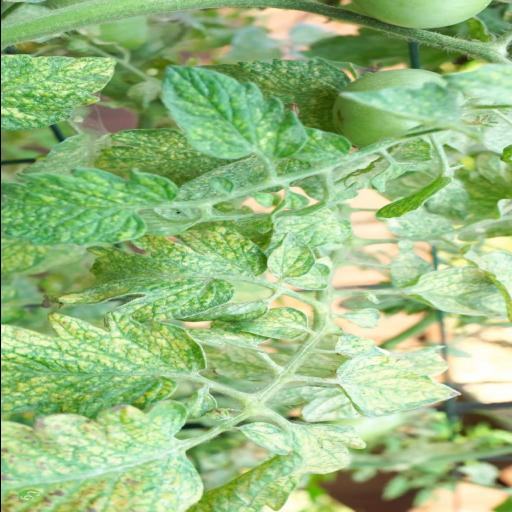Spider Mites: (0, 400, 204, 512), (0, 311, 210, 418), (56, 222, 270, 322), (188, 424, 368, 512), (0, 165, 186, 248), (156, 65, 308, 161), (0, 52, 118, 130), (330, 356, 466, 419), (403, 264, 512, 318), (270, 198, 356, 252), (220, 307, 306, 341), (264, 230, 318, 279), (237, 420, 293, 456)
